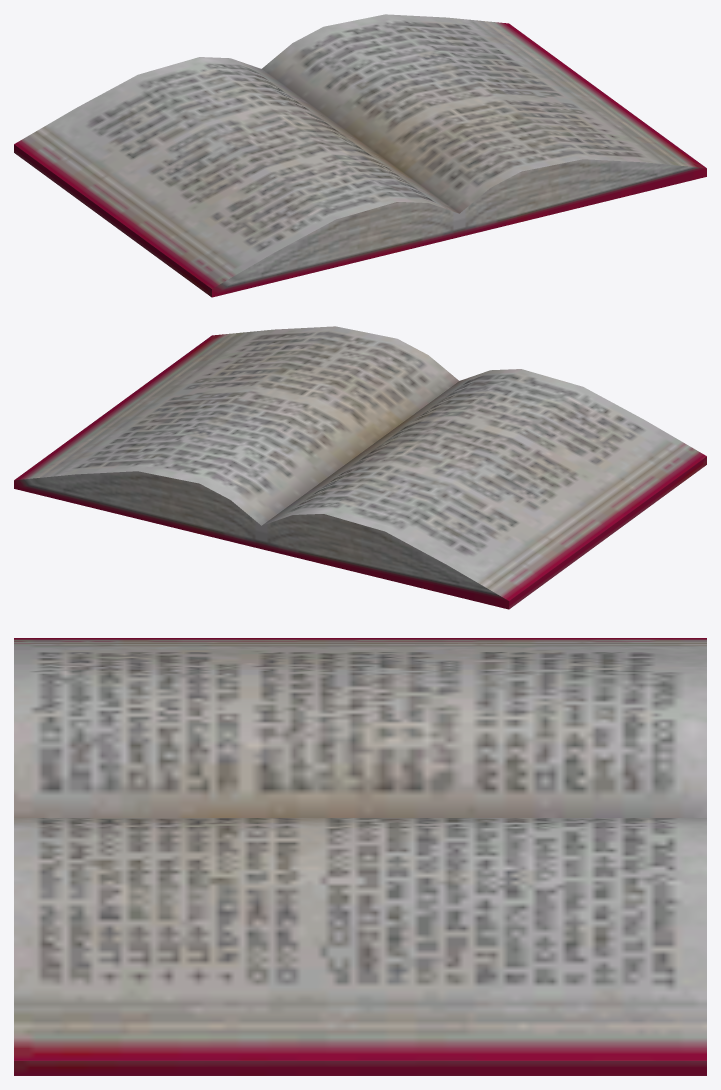
The model's file is open_book.fbx.
3 views of the same model, one above another, from view 1: azimuth 30°, elevation 25°; view 2: azimuth 150°, elevation 25°; view 3: azimuth 270°, elevation 25° (orthographic). The views are drawn at different scales.
Parts seen in each view (by area): view 1: mesh_0; view 2: mesh_0; view 3: mesh_0.
Part boxes in pixels (x1,y1,x2,y2): mesh_0: [14, 14, 706, 297]; mesh_0: [14, 326, 706, 609]; mesh_0: [14, 638, 706, 1075].
Size of the model in its own units: 52 by 5.07 by 36.
Materials: 1 (1 with a texture image).
